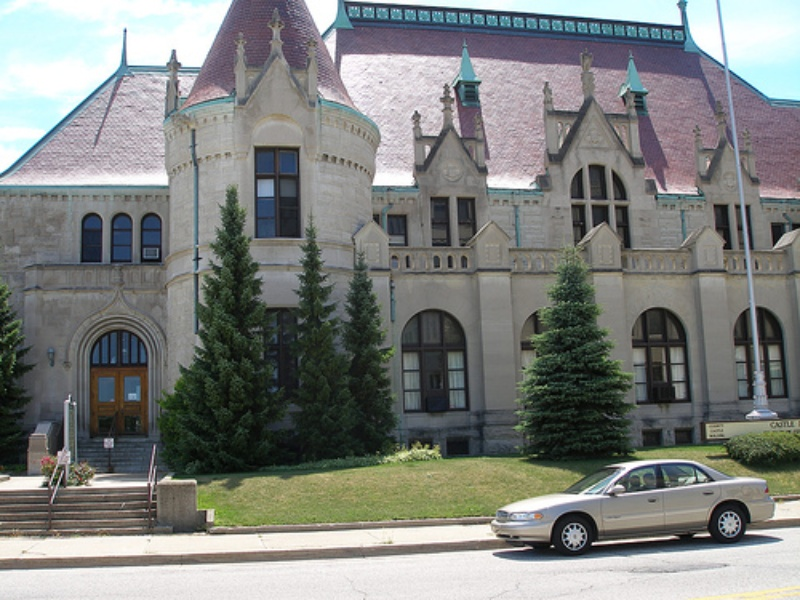car: (490, 460, 775, 555)
